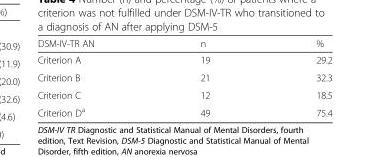table: (36, 37, 331, 118)
table column: (146, 37, 262, 118), (36, 37, 146, 118), (262, 37, 331, 118)
table column header: (36, 37, 331, 51)
table row: (36, 51, 331, 68), (36, 68, 331, 85), (36, 85, 331, 102), (36, 102, 331, 118), (36, 37, 331, 51)
